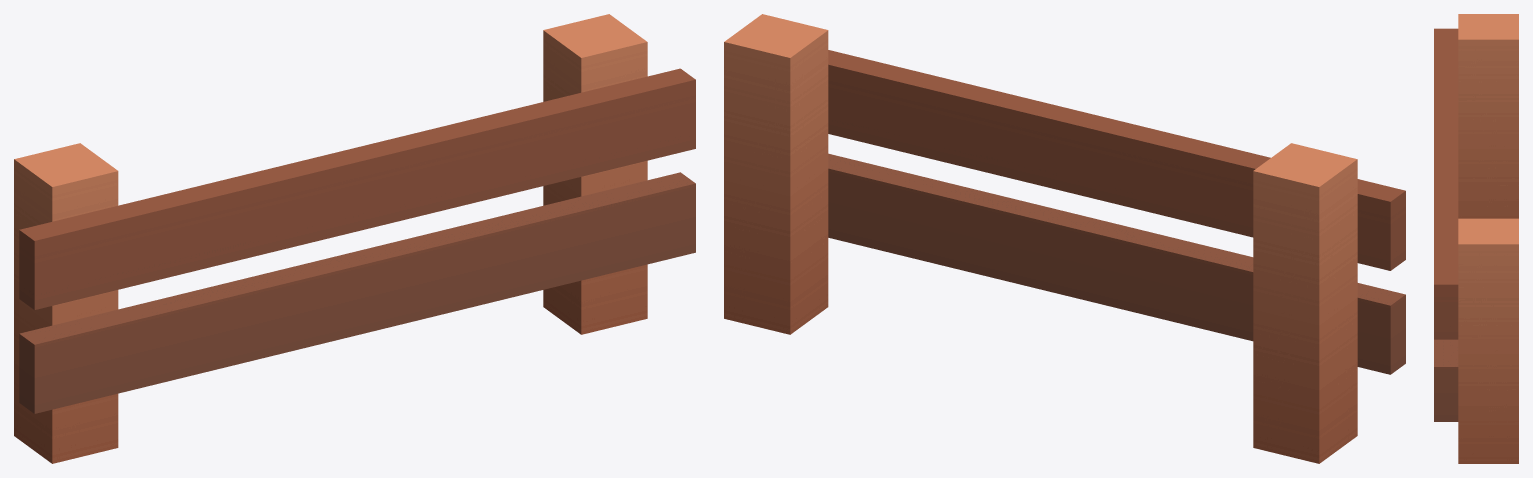
Rendered from fence-straight.glb.
3 renders of one model, left to right at view 1: azimuth 30°, elevation 25°; view 2: azimuth 150°, elevation 25°; view 3: azimuth 270°, elevation 25°, orthographic. The views are drawn at different scales.
Parts seen in each view (by area): view 1: fence-straight; view 2: fence-straight; view 3: fence-straight.
Part boxes in pixels (x1,y1,x2,y2): fence-straight: (14,14,695,463); fence-straight: (724,14,1405,463); fence-straight: (1434,14,1518,463).
Bounding box in the file's own units: 1 × 0.4 × 0.14.
1 material, 1 textured.
